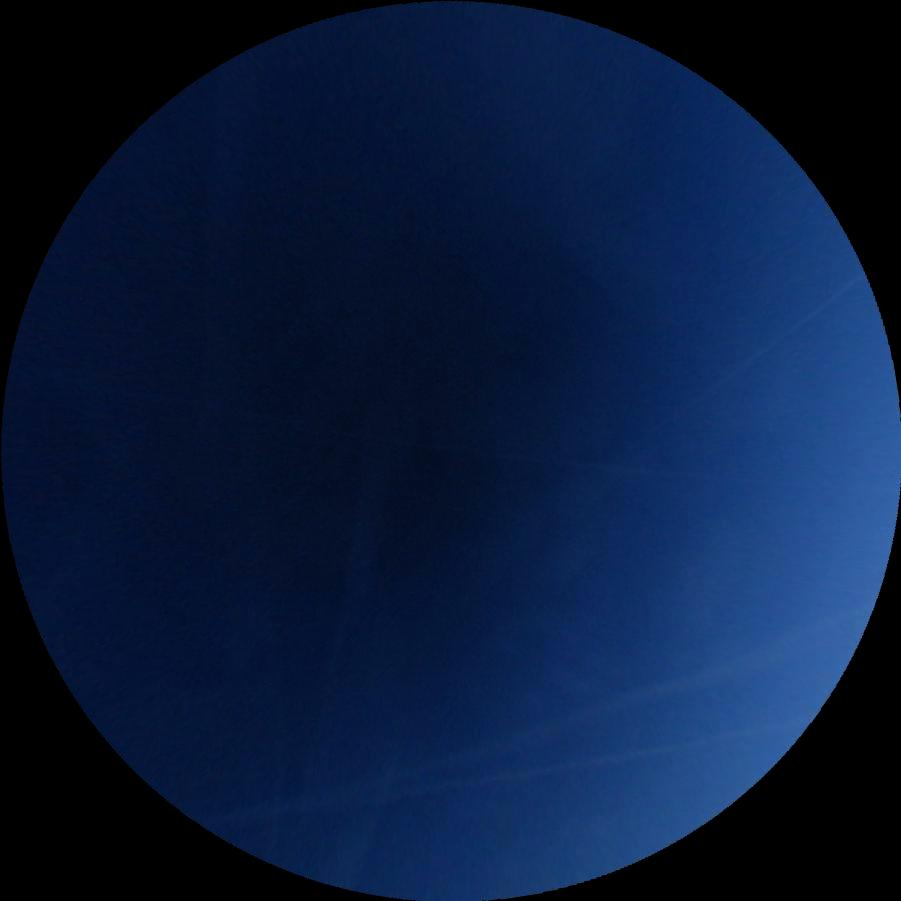contrail old: (10, 365, 776, 486)
contrail veryold: (196, 606, 868, 854), (291, 402, 482, 891), (181, 58, 288, 869), (209, 715, 817, 841)
contrail young: (605, 270, 864, 462)
